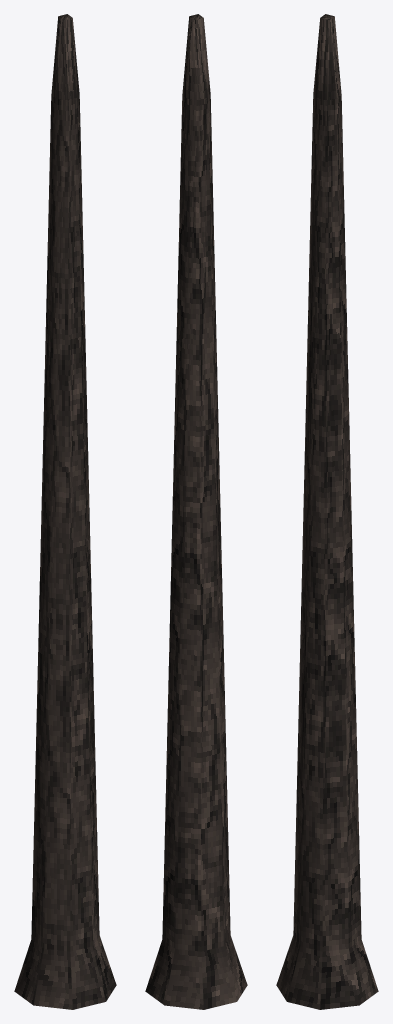
The model's file is sugi_tree_bark.fbx.
The picture shows the model from 3 angles, left to right: view 1: azimuth 30°, elevation 25°; view 2: azimuth 210°, elevation 25°; view 3: azimuth 330°, elevation 25°; orthographic projection.
Visible parts, largest first — view 1: Bark; view 2: Bark; view 3: Bark.
Part boxes in pixels (box(x1,y1,x2,y2)): Bark: box(14, 14, 116, 1009); Bark: box(145, 14, 247, 1009); Bark: box(276, 14, 378, 1009).
Size of the model in its own units: 197 by 2200 by 197.
